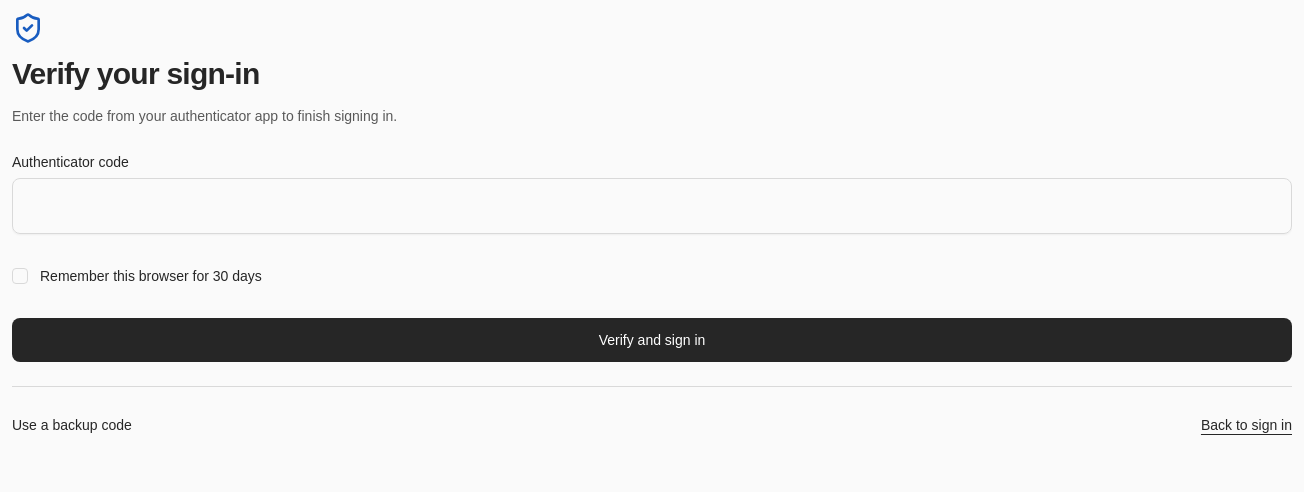
Test: second-factor login › offers a new login when the challenge has expired
Type "123456" into the field labelled "Authenticator code" at (652, 206), box [12,178,1292,234]
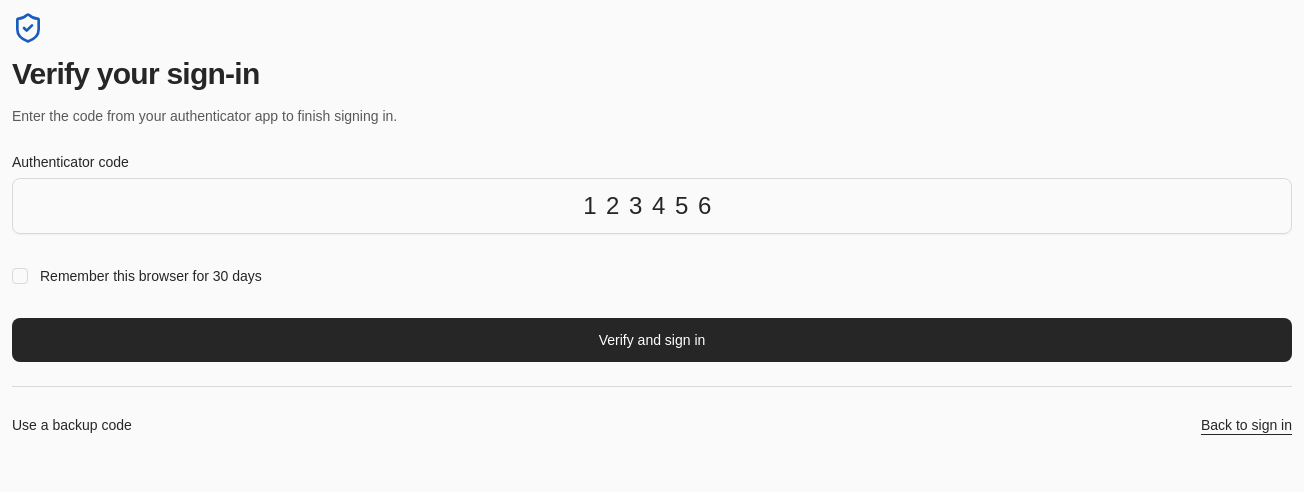
Click the button "Verify and sign in" at (652, 340), box [12,318,1292,362]
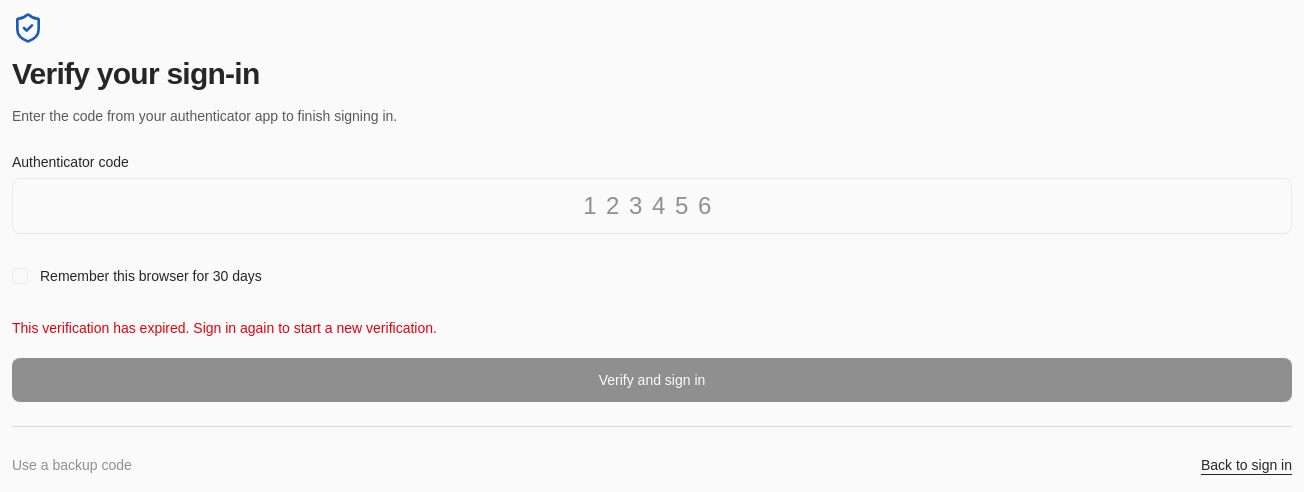
Check: the message shows "Sign in again", box [12,320,437,336]
